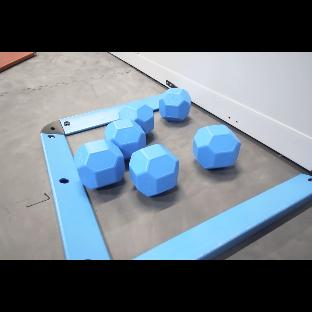Parking - B: (40, 93, 164, 260), (133, 174, 312, 260)
V5_BLUE: (129, 144, 179, 197), (74, 139, 125, 189), (193, 125, 241, 169), (104, 119, 146, 160), (118, 102, 154, 134), (159, 88, 191, 122)
